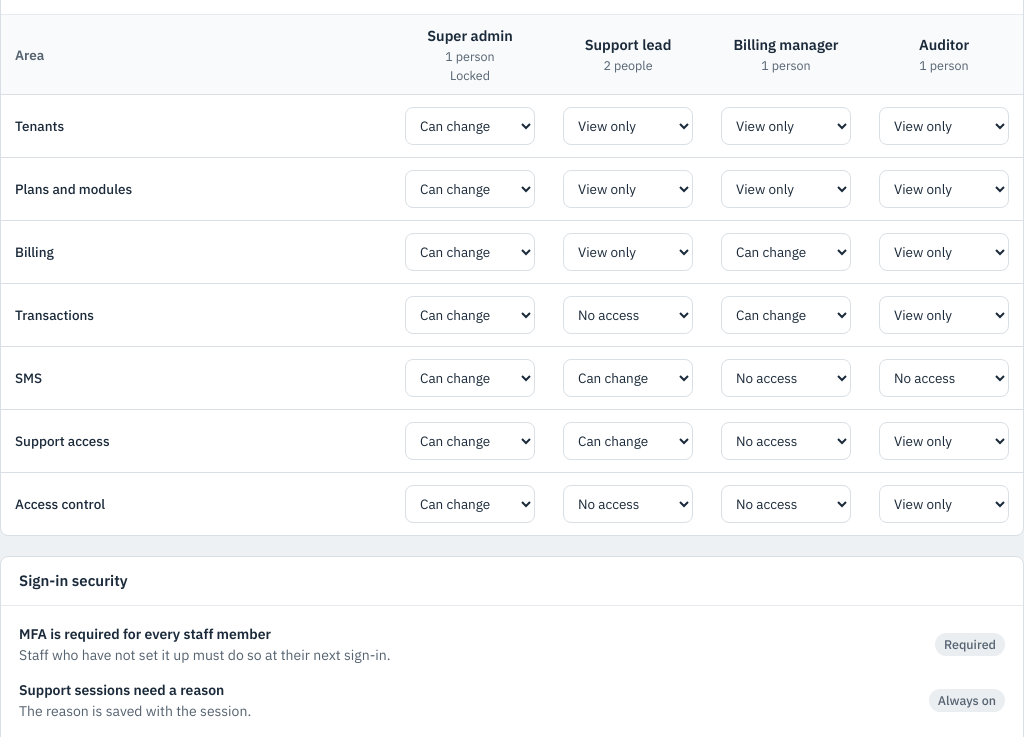
role matrix: editing › keeps Save and Discard off until something changes, and off again when it is put back
(page scrolled)
Expected: the column heading "Super admin 1 person Locked" is shown, [391,15,549,95]
Select "View only" in the dropdown named "SMS for Billing manager" at (786, 378), box [721,359,851,397]
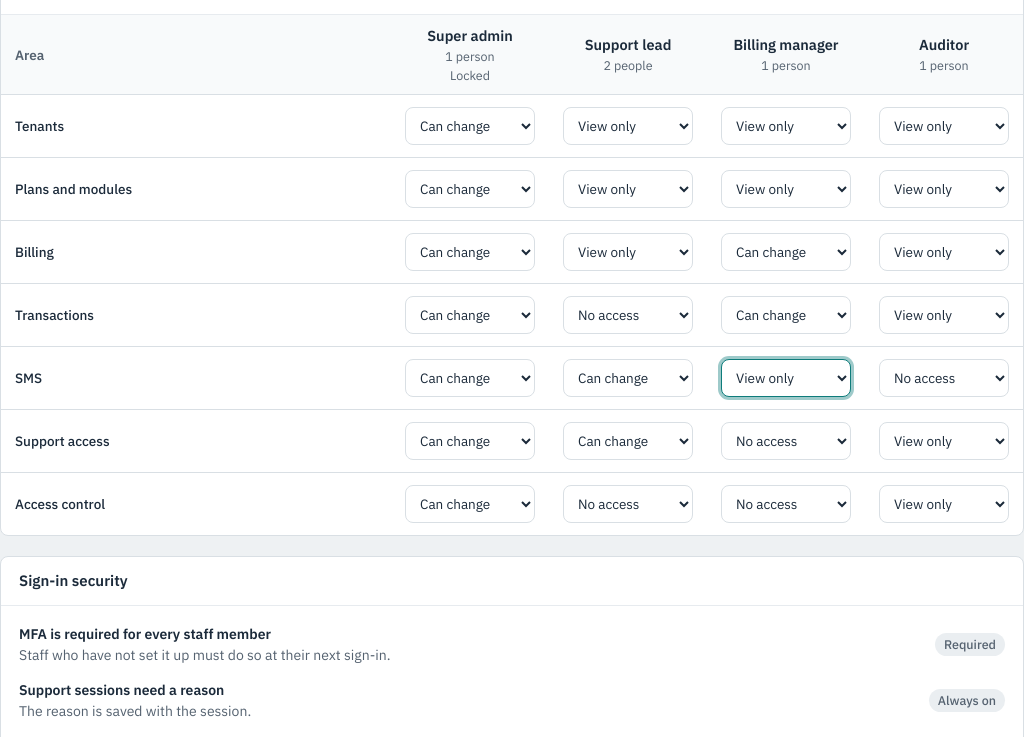
Select "No access" in the dropdown named "SMS for Billing manager" at (786, 378), box [721,359,851,397]
(page scrolled)
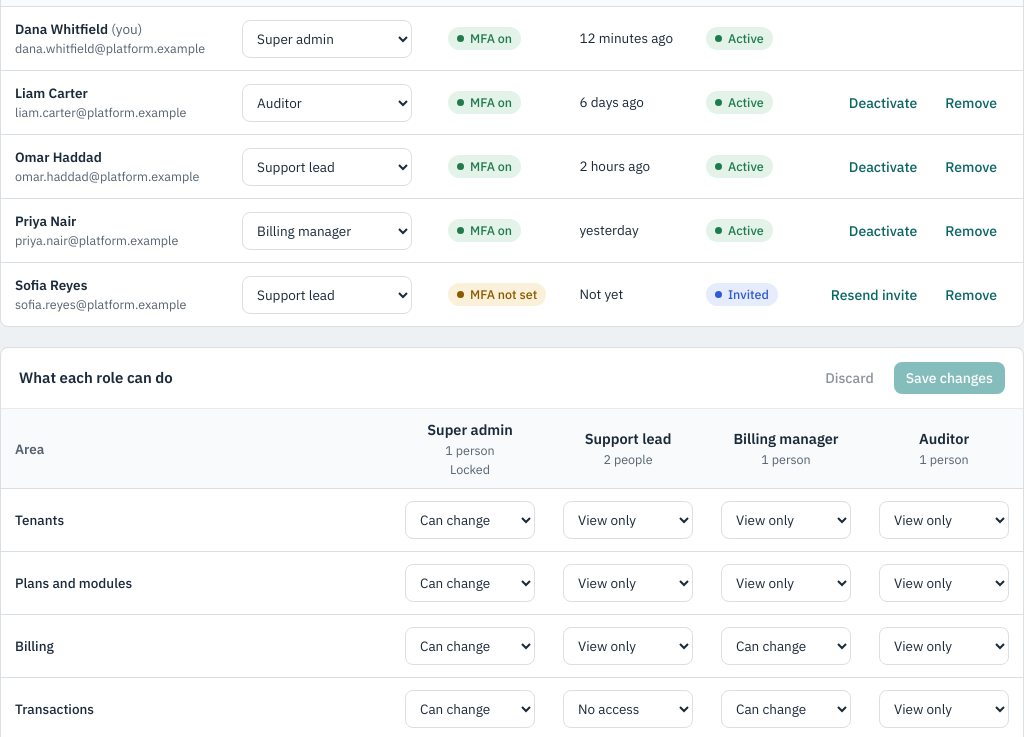
Result: the button "Save changes" is disabled at [894,362,1005,394]
